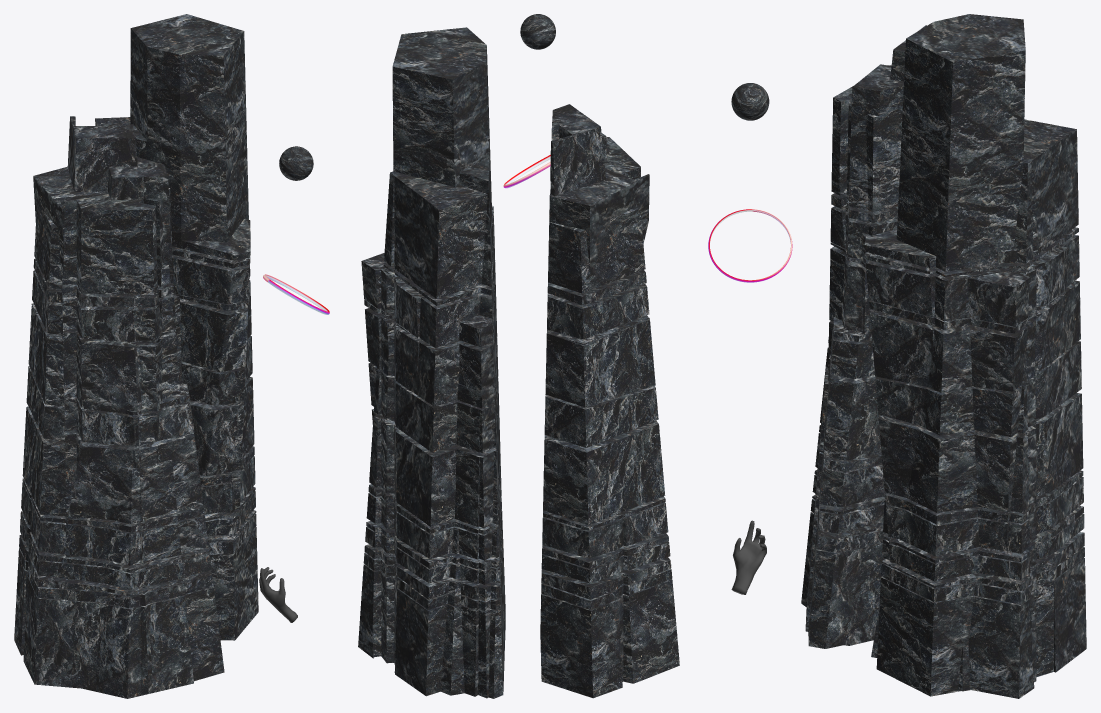
The picture shows the model from 3 angles, left to right: view 1: azimuth 30°, elevation 25°; view 2: azimuth 150°, elevation 25°; view 3: azimuth 270°, elevation 25°; orthographic projection. The views are drawn at different scales.
Parts seen in each view (by area): view 1: parametric-model, el_central, Hand Retopology, Torus.001; view 2: parametric-model, el_central; view 3: parametric-model, Hand Retopology, el_central, Torus.001.
Part boxes in pixels (x1=…): parametric-model: x1=14, y1=14, x2=258, y2=698; el_central: x1=279, y1=146, x2=313, y2=180; Hand Retopology: x1=259, y1=567, x2=297, y2=622; Torus.001: x1=263, y1=274, x2=329, y2=314; parametric-model: x1=358, y1=27, x2=679, y2=698; el_central: x1=520, y1=14, x2=555, y2=49; parametric-model: x1=801, y1=14, x2=1086, y2=698; Hand Retopology: x1=731, y1=520, x2=766, y2=594; el_central: x1=731, y1=83, x2=769, y2=120; Torus.001: x1=708, y1=209, x2=792, y2=282.
Size of what is drawn, in the model's own units: 16.8 by 36.8 by 19.93.
Materials: 4 (3 with a texture image).
